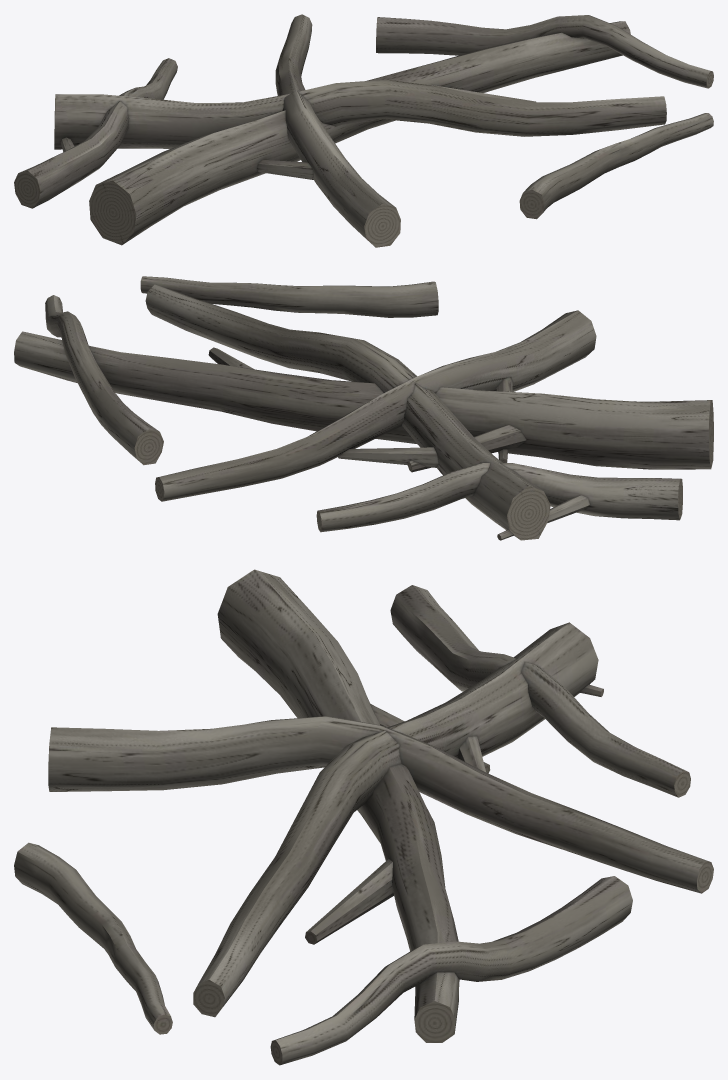
File: fm_driftwood_pile.glb
3 views of the same model, one above another, from view 1: azimuth 30°, elevation 25°; view 2: azimuth 150°, elevation 25°; view 3: azimuth 270°, elevation 25° (orthographic). The views are drawn at different scales.
Visible parts, largest first — view 1: fm_driftwood_pile; view 2: fm_driftwood_pile; view 3: fm_driftwood_pile.
Part boxes in pixels (x1,y1,x2,y2): fm_driftwood_pile: (14, 14, 713, 247); fm_driftwood_pile: (14, 276, 713, 540); fm_driftwood_pile: (14, 569, 713, 1065).
Size of the model in its own units: 2.29 by 0.2282 by 1.55.
Materials: 1 (1 with a texture image).
